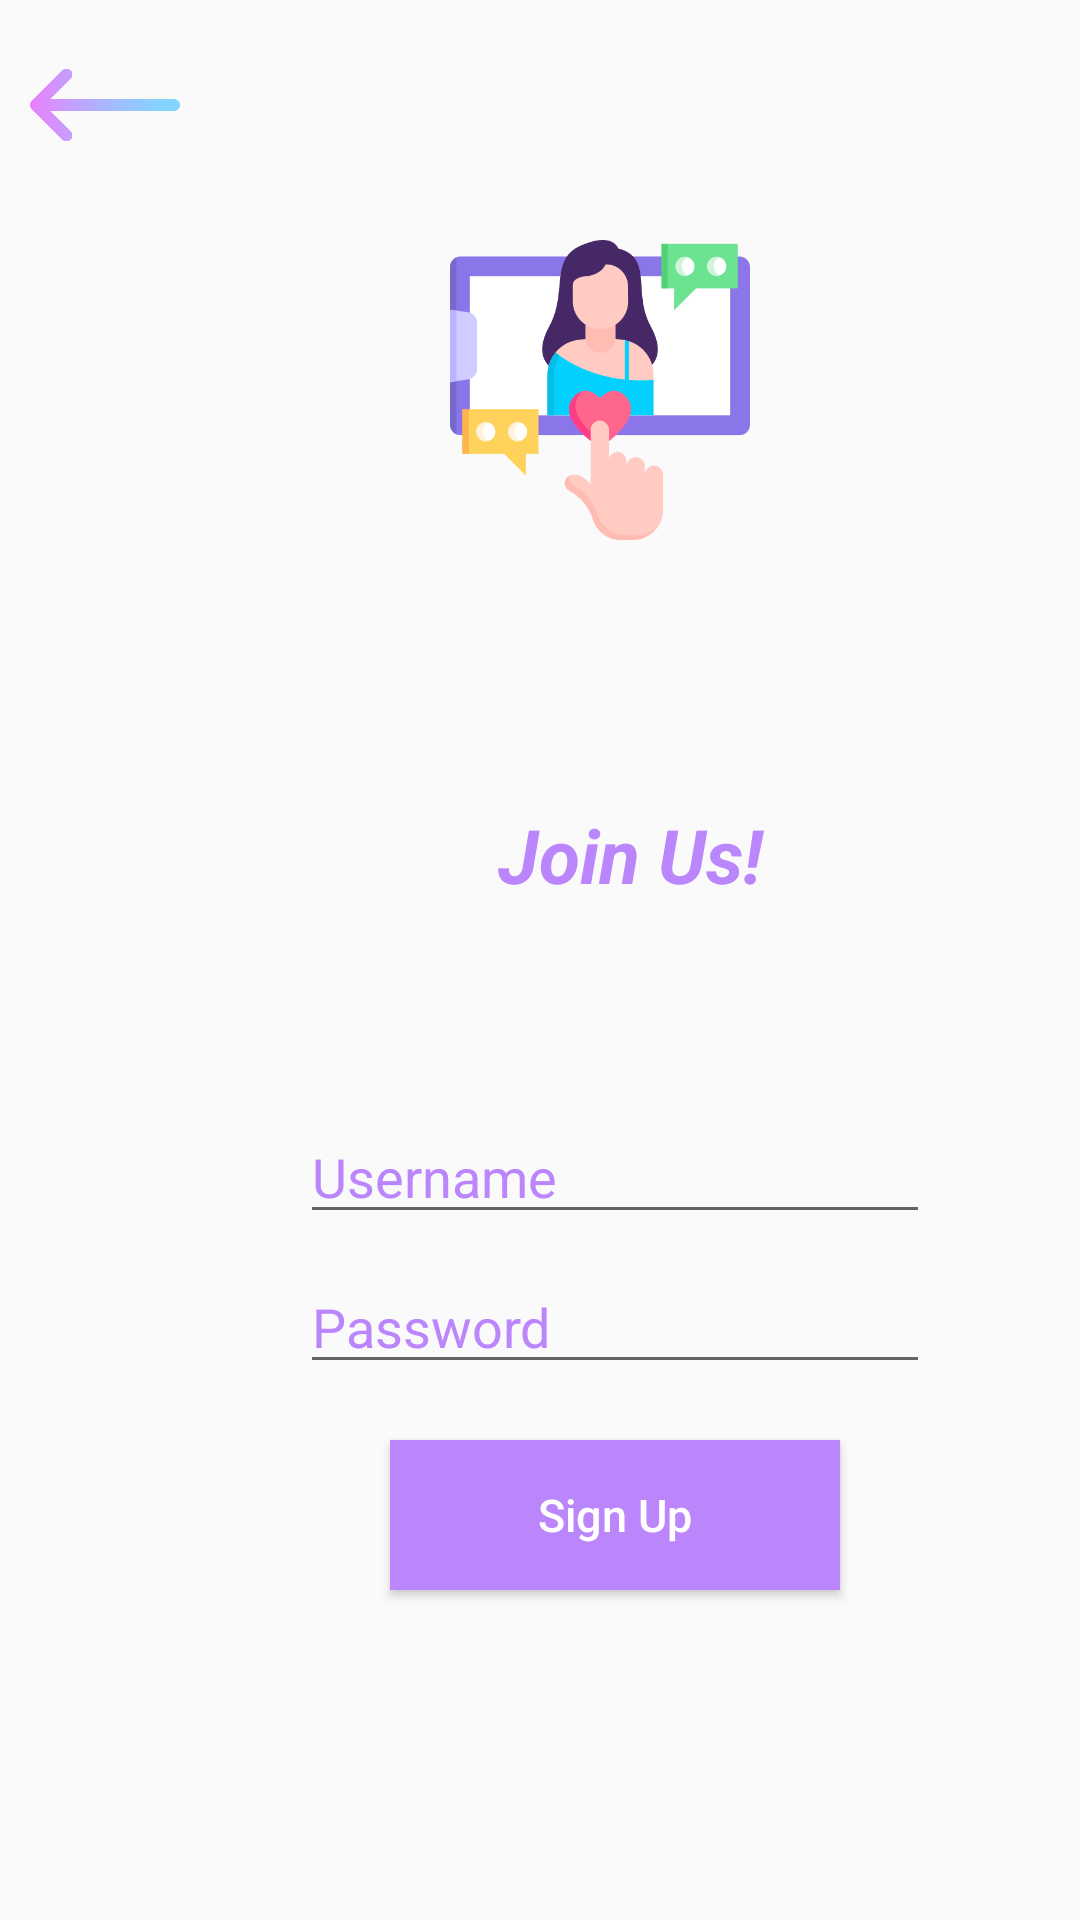

Icon click points for this 1080×1920 phone screenshot, format (x,y):
arrow: (105,105)
